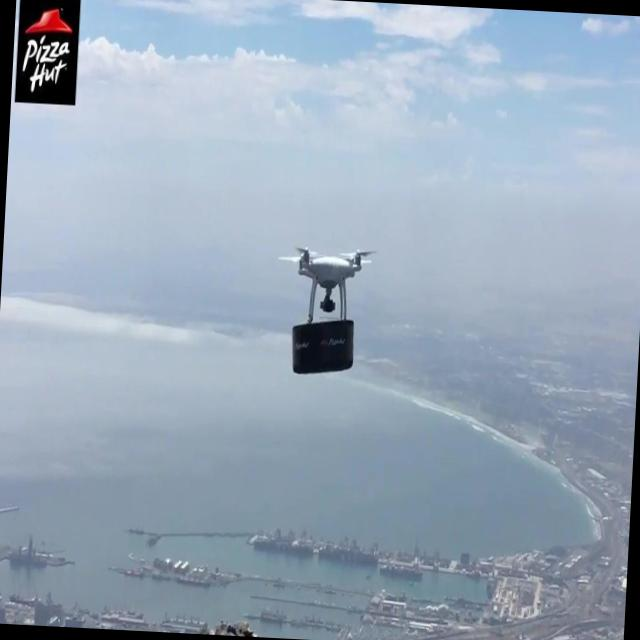drone: (272, 243, 382, 380)
